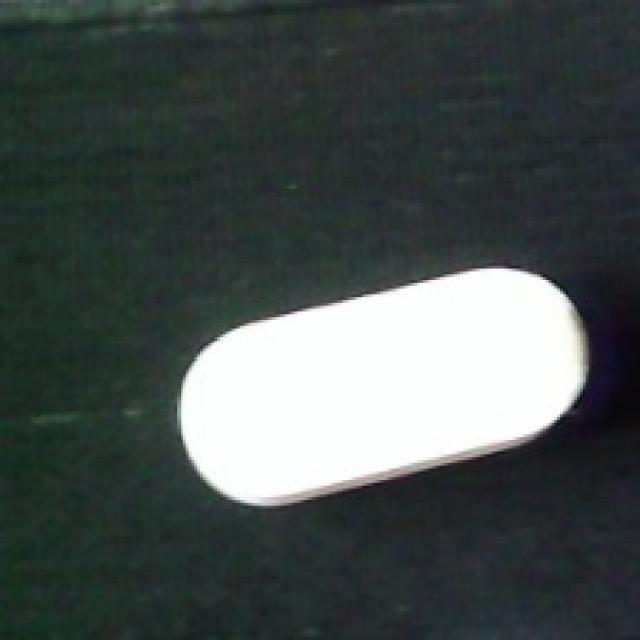no-defect: (168, 264, 592, 511)
